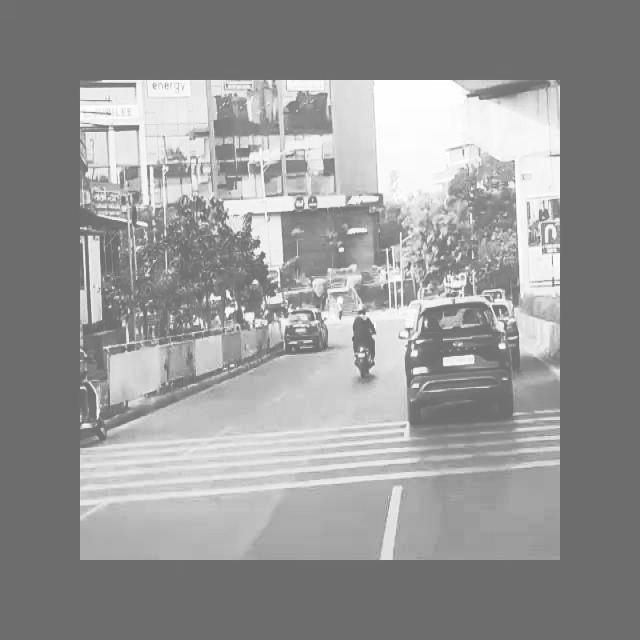Car: (392, 295, 544, 425), (281, 297, 334, 359)
